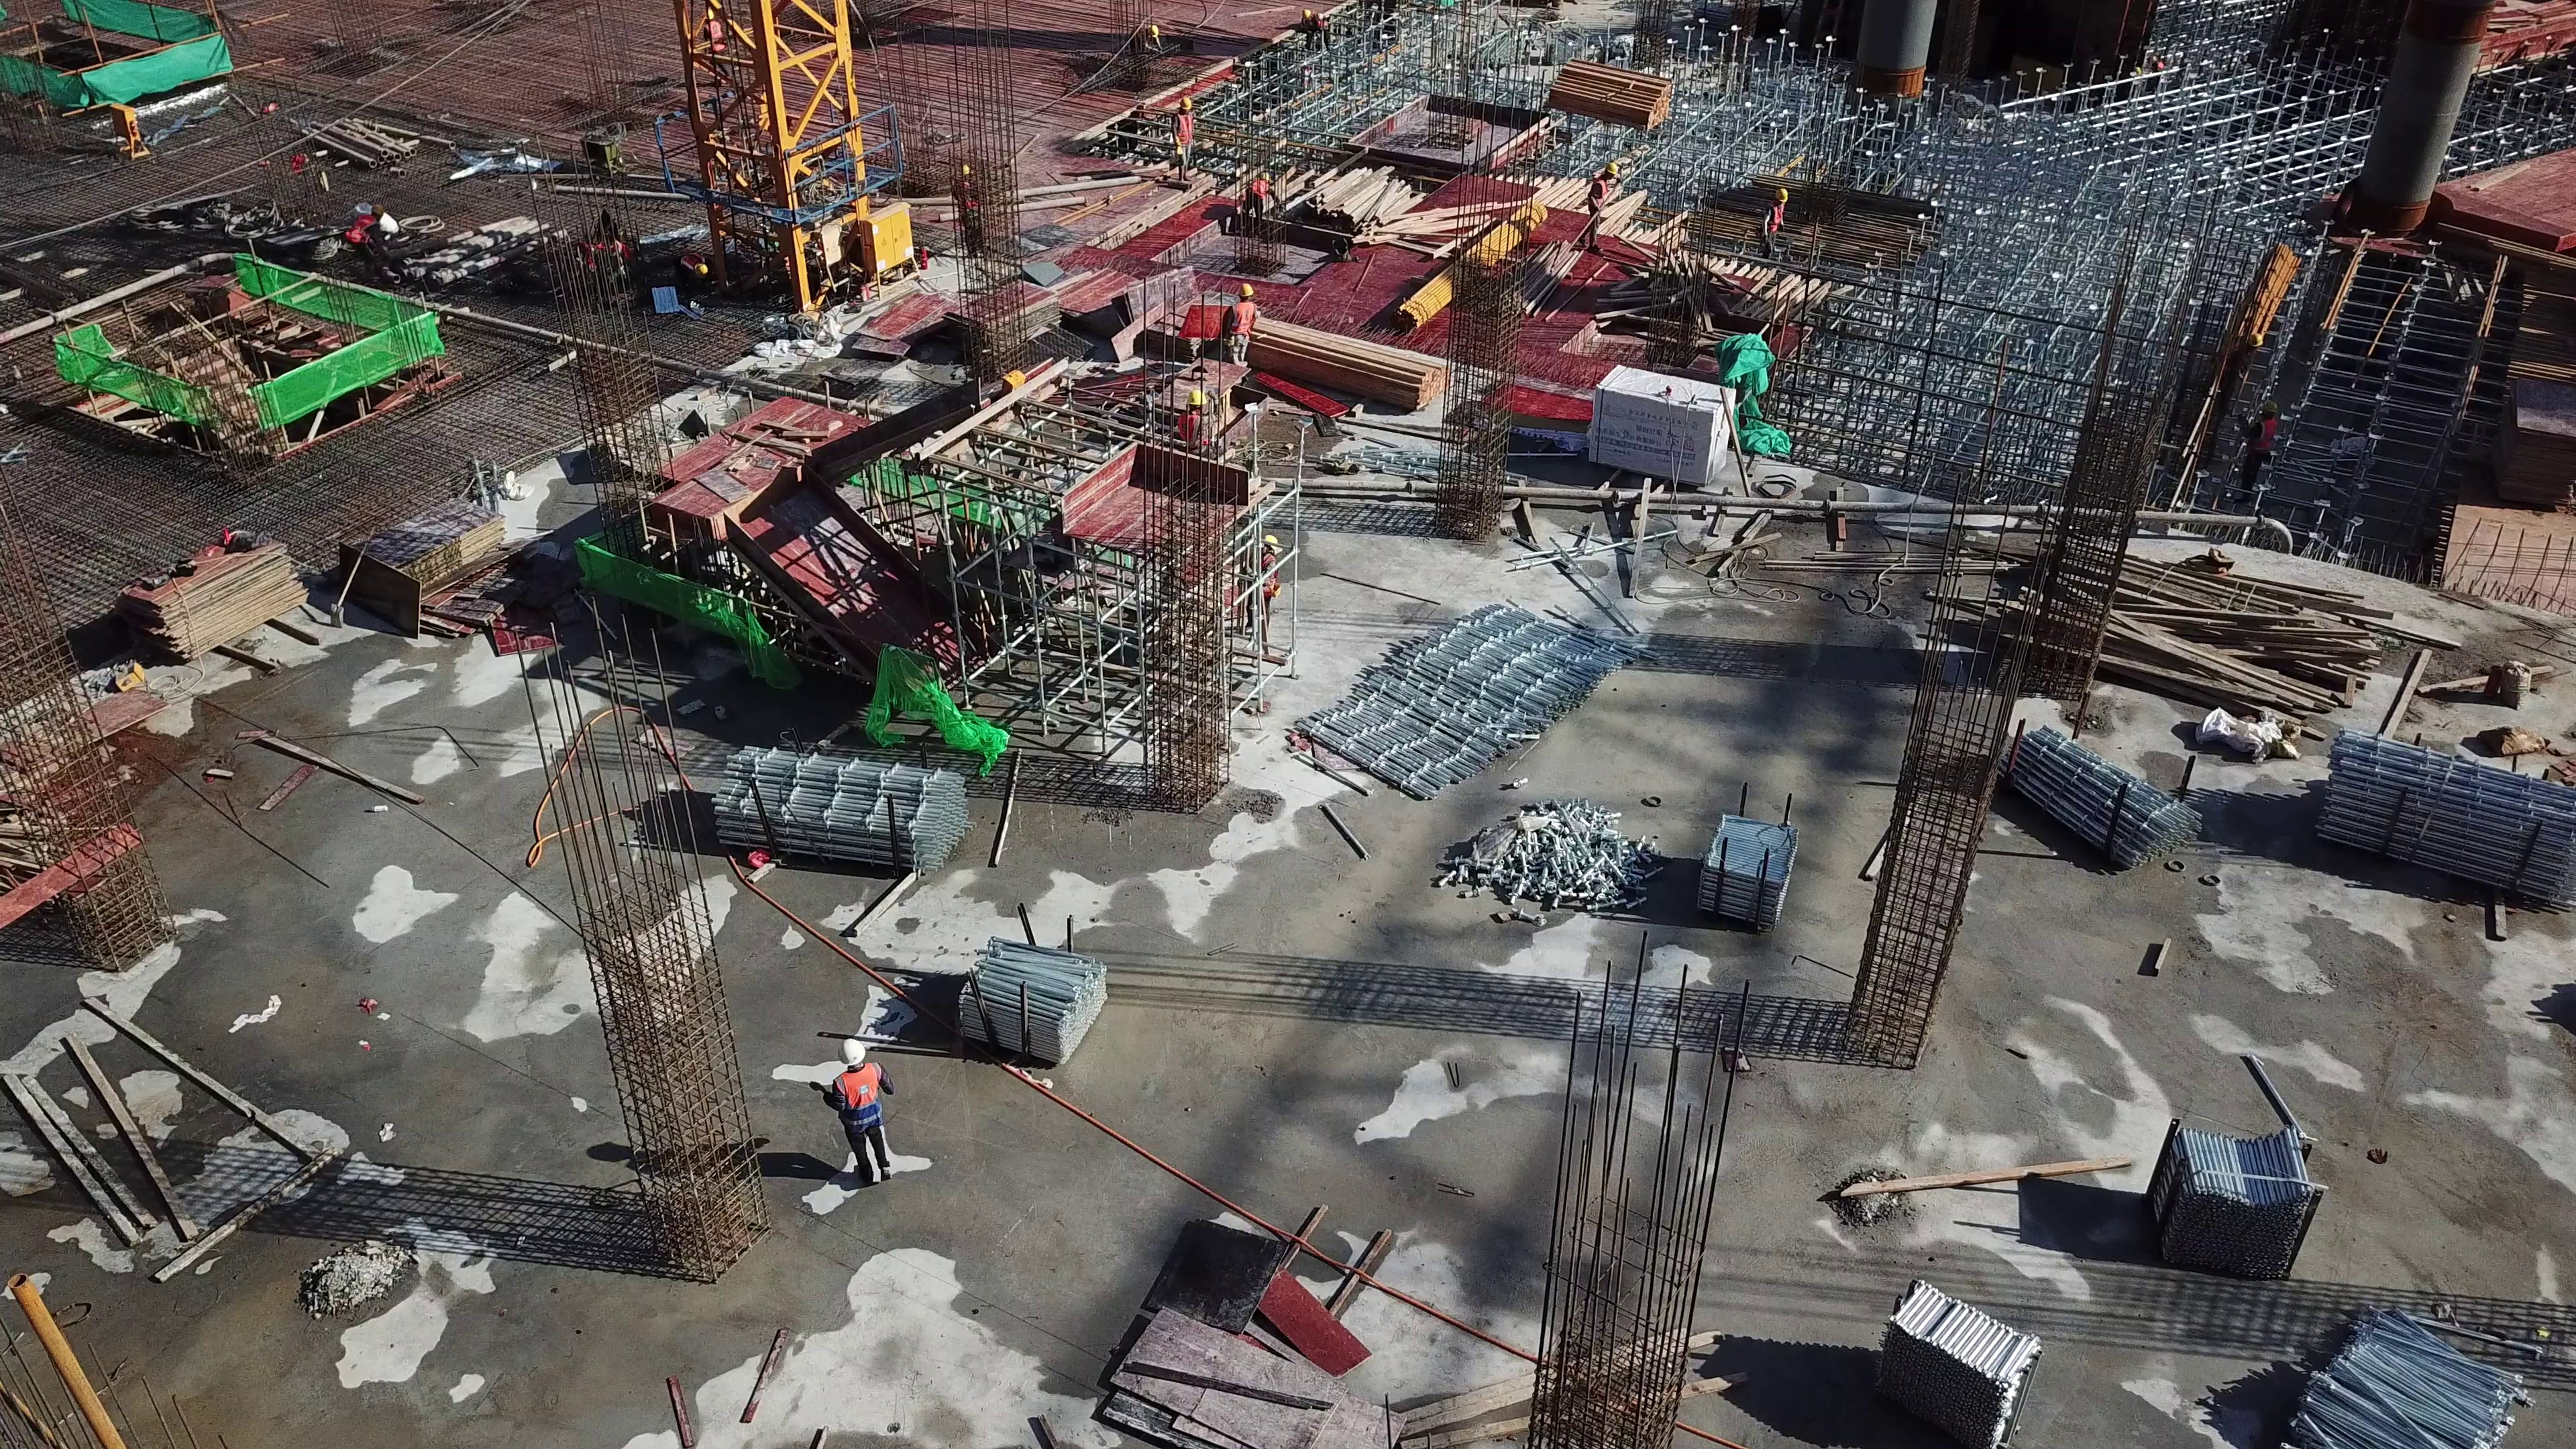board: (327, 488, 504, 660), (111, 523, 306, 678), (2496, 368, 2576, 517)
helmet: (840, 1034, 866, 1065)
person: (819, 1036, 904, 1194), (1163, 85, 1204, 197), (1225, 278, 1266, 392), (949, 166, 994, 260), (1578, 158, 1619, 240), (1762, 158, 1790, 255), (1173, 389, 1222, 444), (1234, 173, 1269, 240)
scaffold: (1303, 596, 1627, 814), (1426, 806, 1790, 943), (2310, 739, 2569, 928), (712, 751, 962, 881), (1980, 712, 2188, 861), (1875, 1261, 2045, 1439), (2284, 1325, 2516, 1449), (2152, 1110, 2310, 1281), (951, 940, 1108, 1057)
vest: (831, 1057, 881, 1124)
wood: (1919, 537, 2394, 724), (1236, 316, 1452, 412), (1280, 164, 1461, 266)
